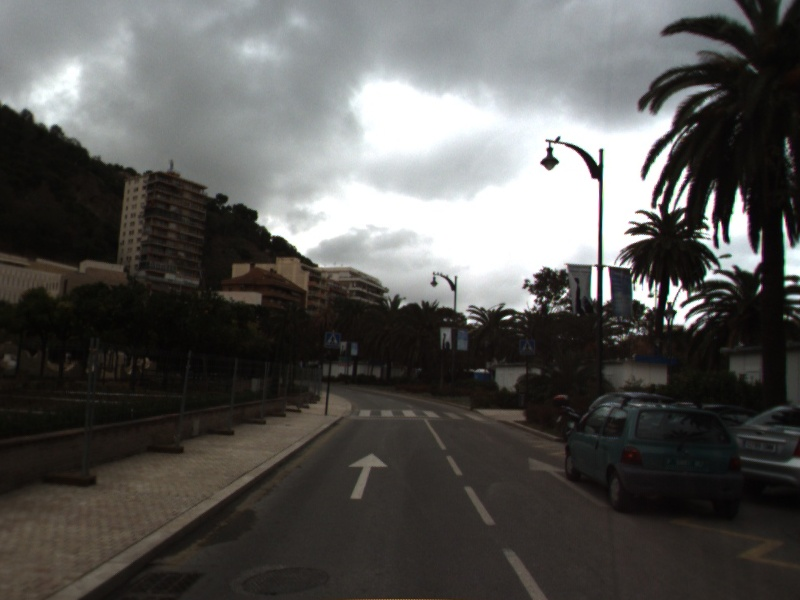STRAIGHT: (526, 455, 613, 509), (346, 451, 390, 501)
